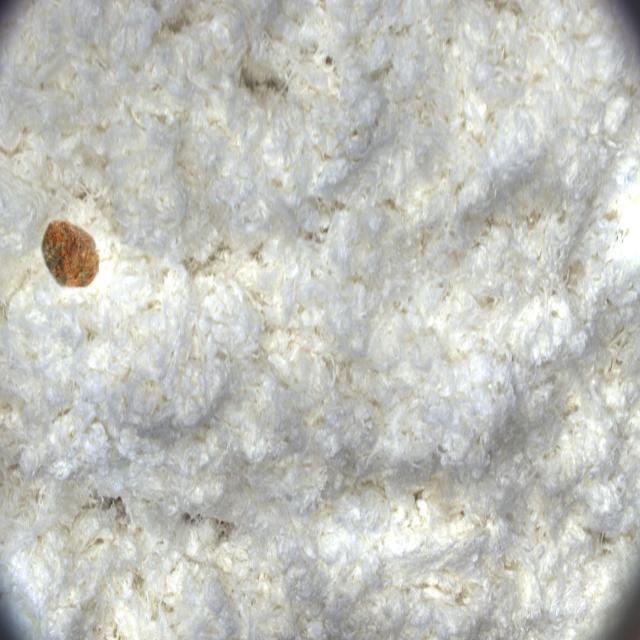dust: (17, 189, 134, 323)
